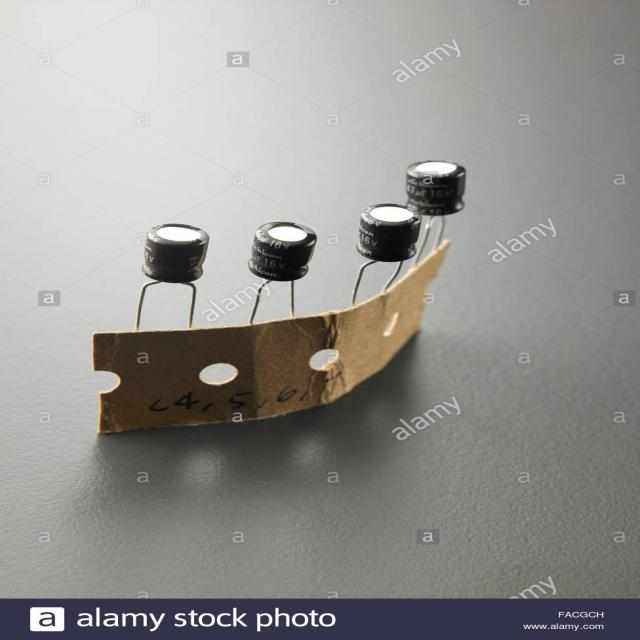capacitor: (134, 222, 210, 328), (246, 222, 318, 324), (352, 202, 423, 304), (408, 160, 468, 266)
